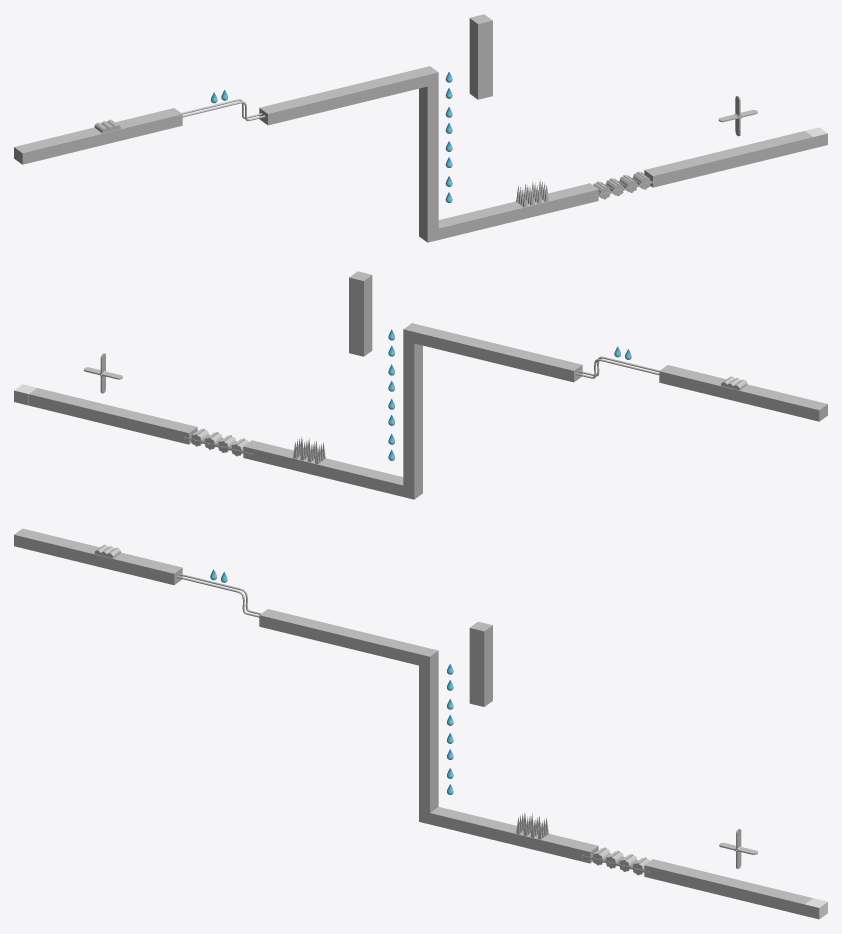
File: test-level.fbx
3 views of the same model, one above another, from view 1: azimuth 30°, elevation 25°; view 2: azimuth 150°, elevation 25°; view 3: azimuth 330°, elevation 25° (orthographic).
Parts seen in each view (by area): view 1: long-cube.005, long-cube.008, long-cube.006, long-cube.004, long-cube.007, tall-cube, tall-cube.001, thorn.002, pipe-2; view 2: long-cube.005, long-cube.008, long-cube.006, long-cube.004, long-cube.007, tall-cube, tall-cube.001, thorn.002, pipe-2; view 3: long-cube.006, long-cube.005, long-cube.008, long-cube.004, long-cube.007, tall-cube, tall-cube.001.
Boxes of the visible parts, <box> form: long-cube.005: <box>259,69,428,125</box>; long-cube.008: <box>644,131,813,187</box>; long-cube.006: <box>419,66,438,242</box>; long-cube.004: <box>14,108,182,164</box>; long-cube.007: <box>438,183,598,239</box>; tall-cube: <box>469,14,492,61</box>; tall-cube.001: <box>469,56,492,99</box>; thorn.002: <box>516,179,548,207</box>; pipe-2: <box>181,99,265,121</box>; long-cube.005: <box>413,326,582,382</box>; long-cube.008: <box>29,388,197,444</box>; long-cube.006: <box>403,323,422,499</box>; long-cube.004: <box>659,365,827,421</box>; long-cube.007: <box>243,440,403,496</box>; tall-cube: <box>349,271,372,319</box>; tall-cube.001: <box>349,313,372,356</box>; thorn.002: <box>293,437,325,463</box>; pipe-2: <box>576,356,659,378</box>; long-cube.006: <box>419,648,438,824</box>; long-cube.005: <box>259,609,426,665</box>; long-cube.008: <box>644,859,812,915</box>; long-cube.004: <box>14,528,182,584</box>; long-cube.007: <box>430,807,598,863</box>; tall-cube: <box>469,621,492,669</box>; tall-cube.001: <box>469,663,492,706</box>.
Size of the model in its own units: 109 by 26.62 by 2.4.
